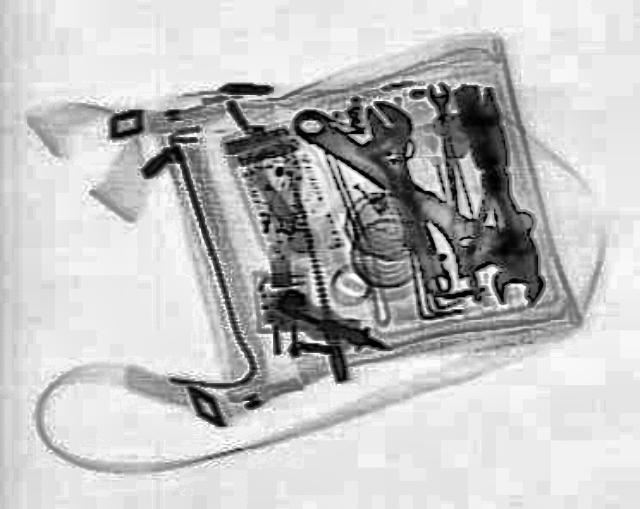Wrench: (263, 92, 555, 306), (440, 80, 548, 308), (357, 95, 468, 289), (422, 80, 461, 149)
